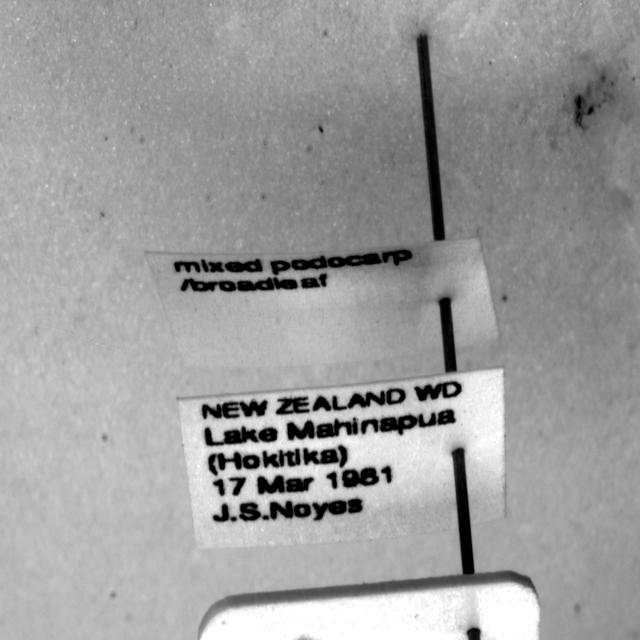typed_label: (178, 368, 505, 548), (146, 236, 499, 368)
